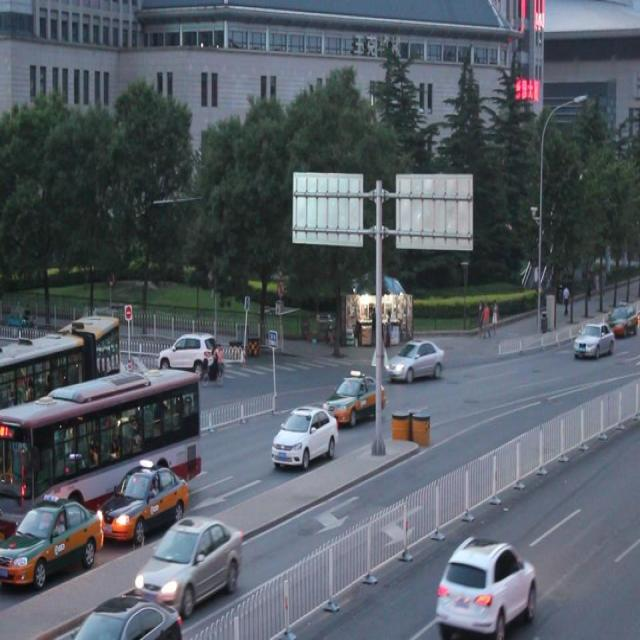car: (132, 512, 243, 614), (434, 533, 537, 640), (1, 495, 105, 589), (104, 457, 189, 540), (74, 588, 184, 640), (269, 404, 338, 468), (325, 368, 384, 424), (159, 332, 218, 384), (385, 338, 444, 382), (128, 367, 172, 413)
van: (1, 372, 200, 544), (1, 316, 119, 409)
